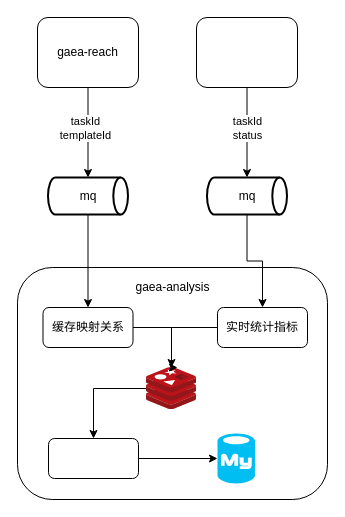
Image size: 345x517. Some labels were removed from this diagram. The shapes that lost their labels are listed below. From the top down, each one's centre as x and y in pixels, then its label:
(247,52): 短信平台
(93,458): 定时按天归档
